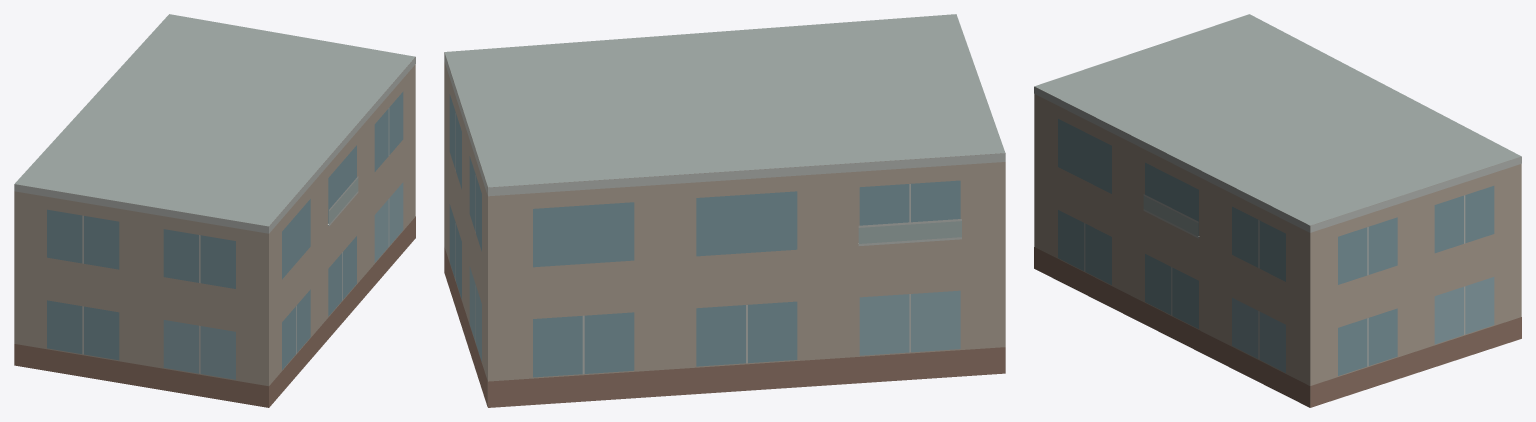
Rendered from survey-upis-32606072.glb.
3 renders of one model, left to right at view 1: azimuth 30°, elevation 25°; view 2: azimuth 150°, elevation 25°; view 3: azimuth 270°, elevation 25°, orthographic. The views are drawn at different scales.
Parts seen in each view (by area): view 1: survey-upis-32606072.tmp; view 2: survey-upis-32606072.tmp; view 3: survey-upis-32606072.tmp.
Part boxes in pixels (x1,y1,x2,y2): survey-upis-32606072.tmp: [14, 14, 415, 407]; survey-upis-32606072.tmp: [444, 14, 1005, 407]; survey-upis-32606072.tmp: [1034, 14, 1521, 407].
Size of the model in its own units: 15.2 by 6.1 by 14.8.
